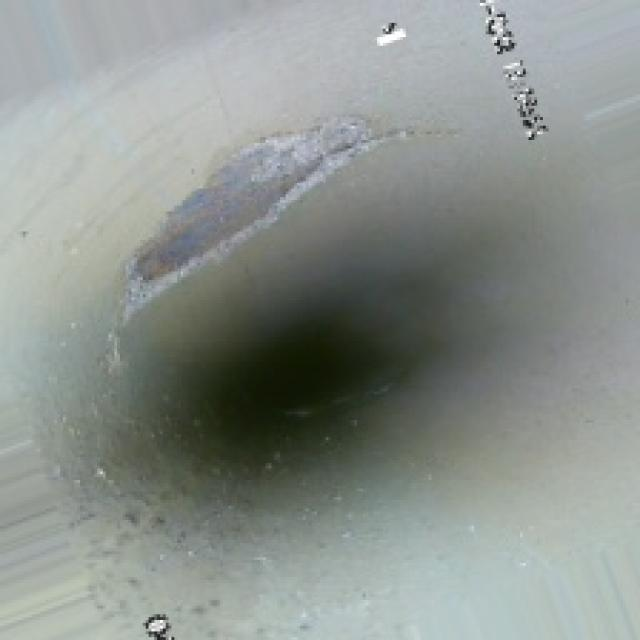pipe_surface_damage: (115, 103, 412, 308)
